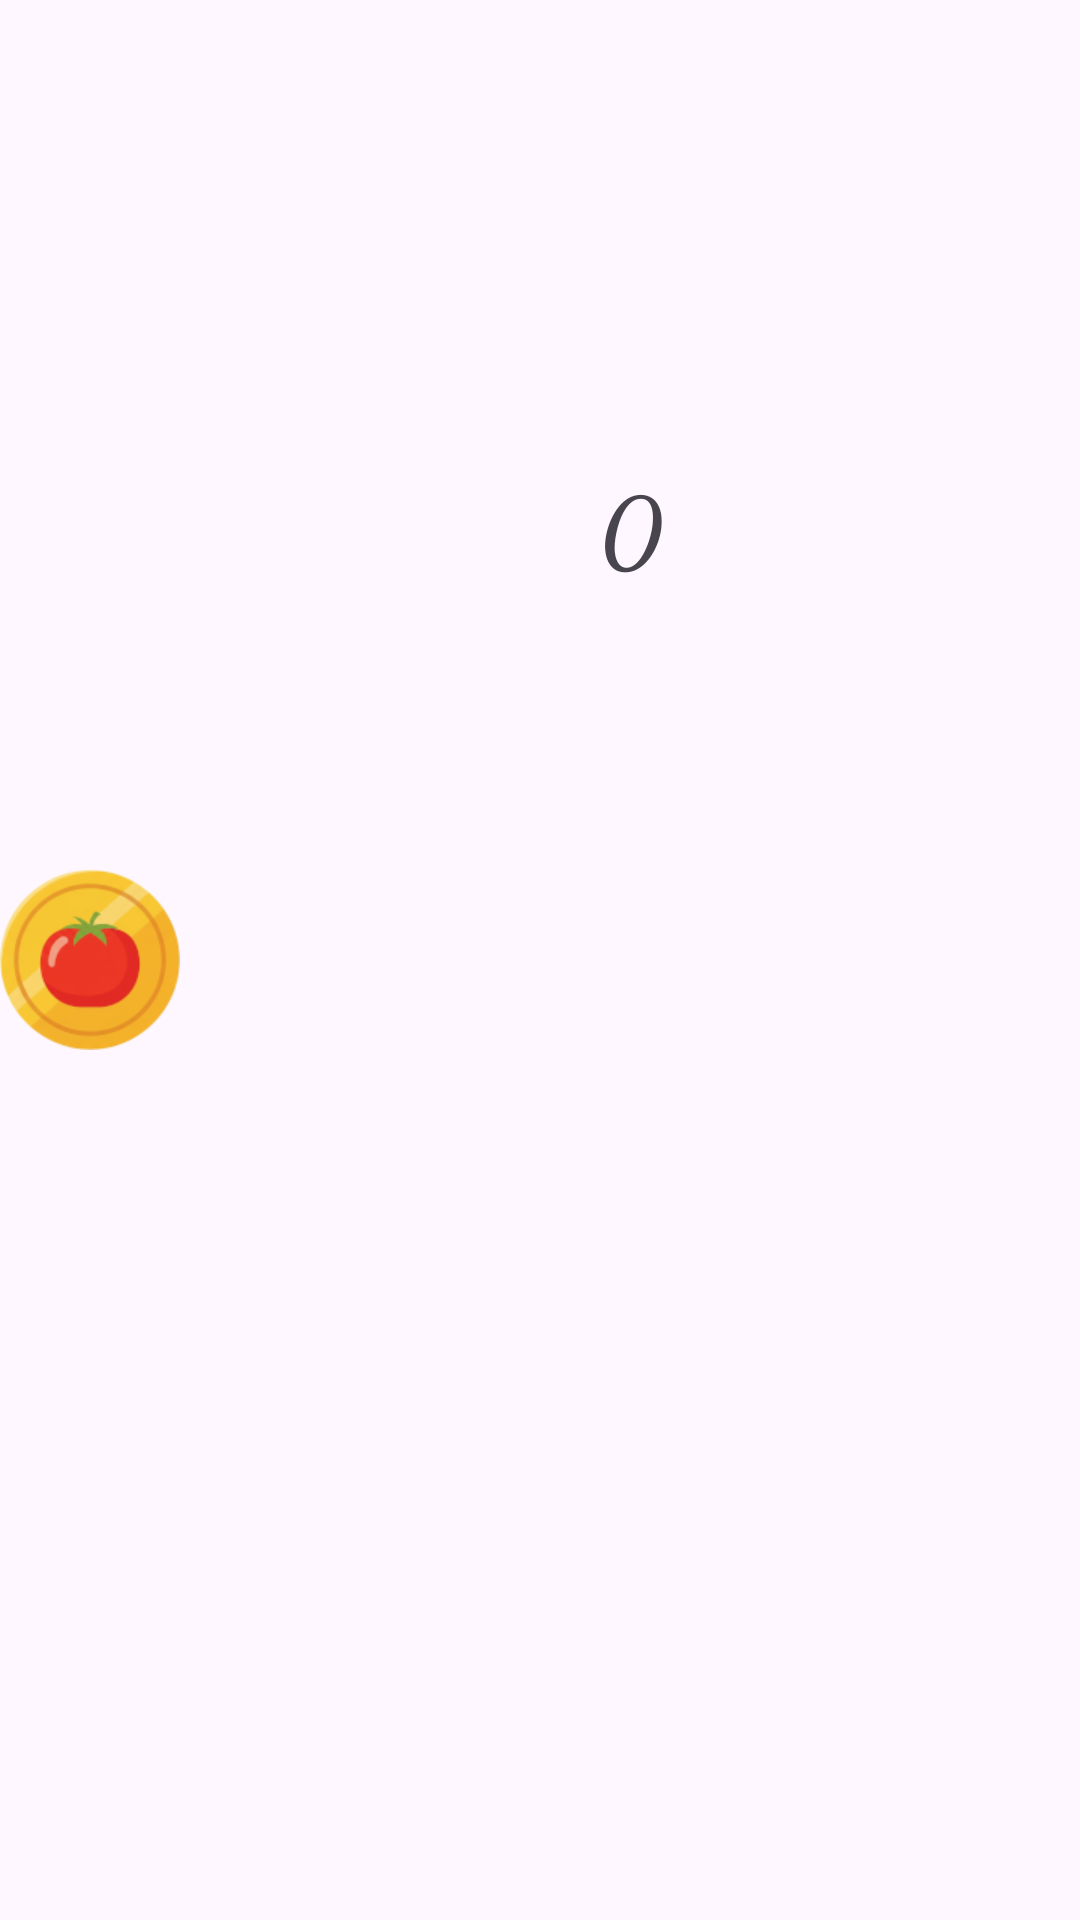

Where icons sit on this 1080 x 1920 app screen, as (x1, y1, x2, y2):
Coin credits: (0, 870, 180, 1050)
